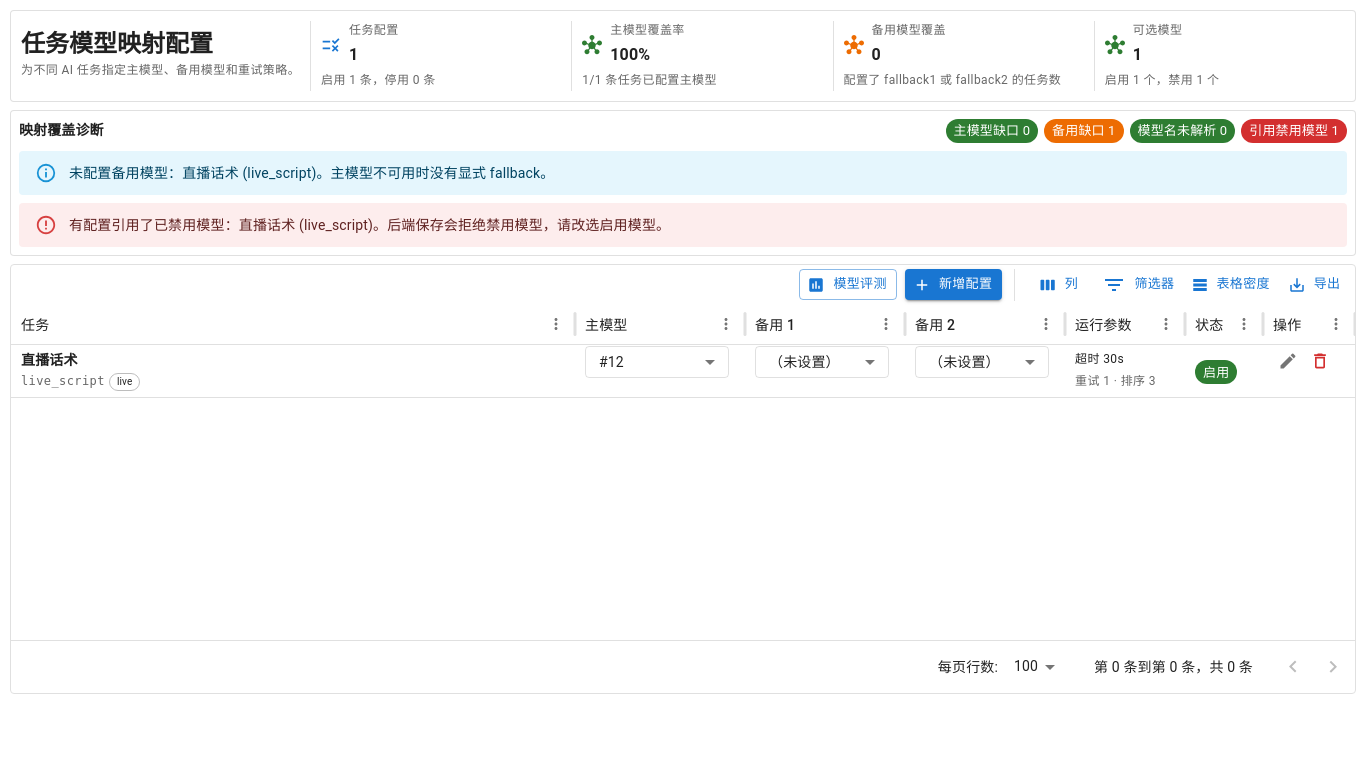
Test: TaskModelConfigPage › shows disabled model references and excludes disabled models from form selects
Check: the text "引用禁用模型 1" is shown, box [1249, 123, 1339, 138]
Check: the text "有配置引用了已禁用模型：直播话术 (live_script)。后端保存会拒绝禁用模型，请改选启用模型。" is shown, box [69, 217, 670, 233]
Step 1. Click the button with test id "task-model-config-add" → (954, 285), box [905, 270, 1002, 300]
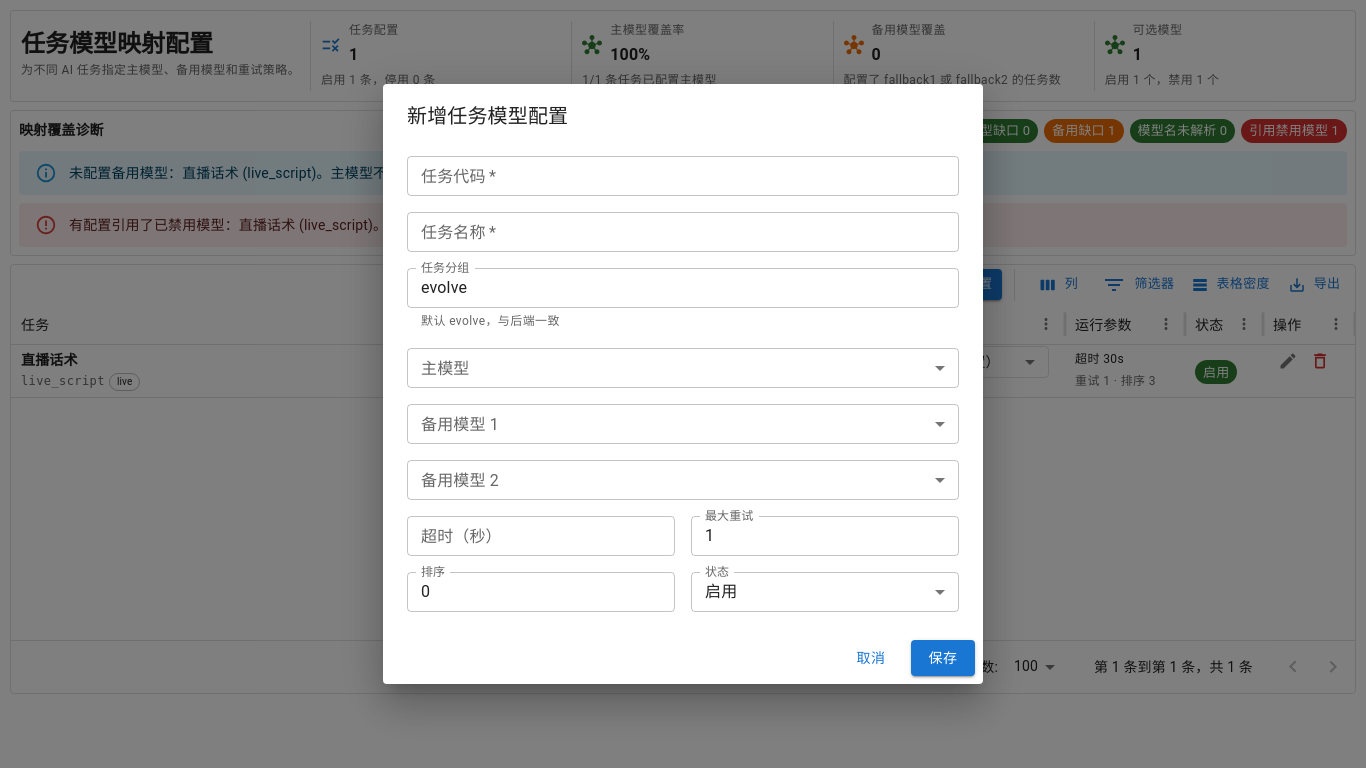
Step 2. Press the mouse on the 1st dropdown named "主模型" → (683, 368), box [407, 348, 959, 388]
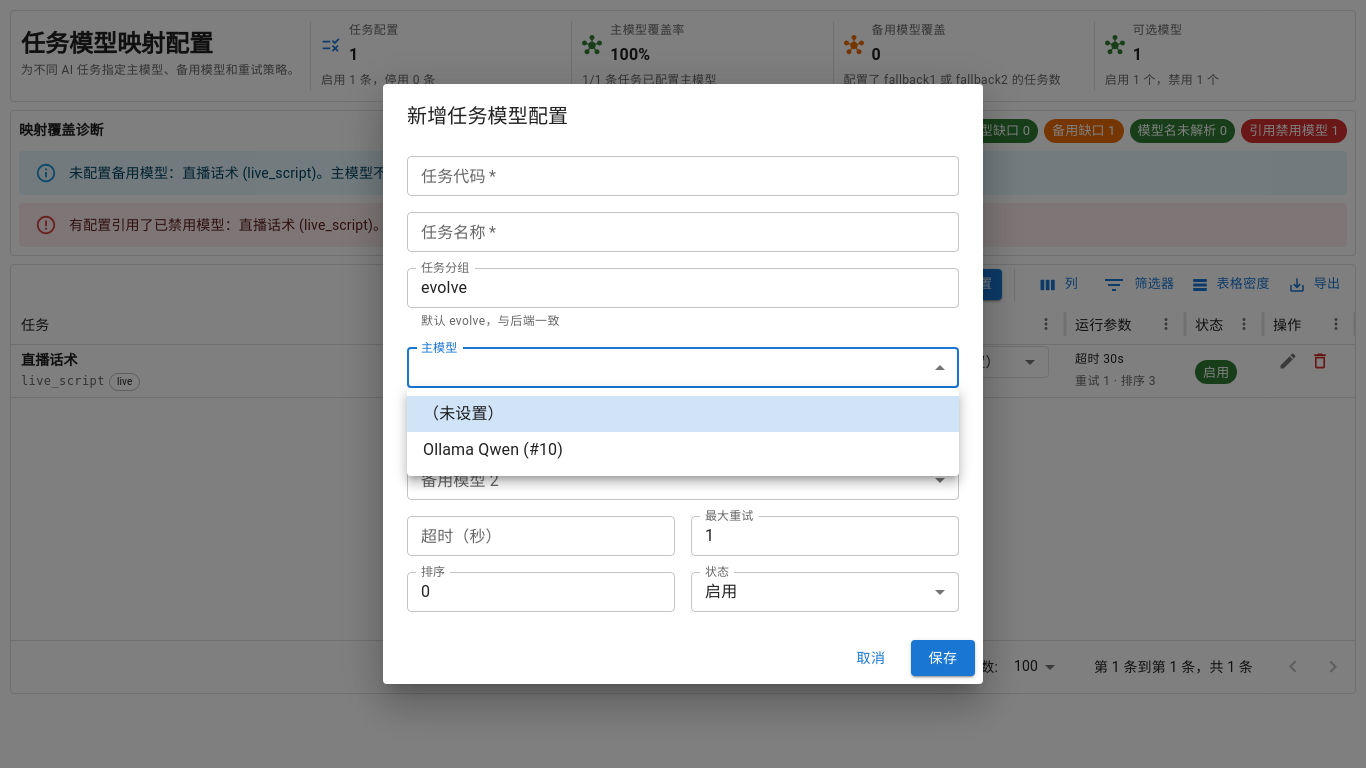
Check: the option "Ollama Qwen (#10)" is shown, box [423, 440, 563, 459]
